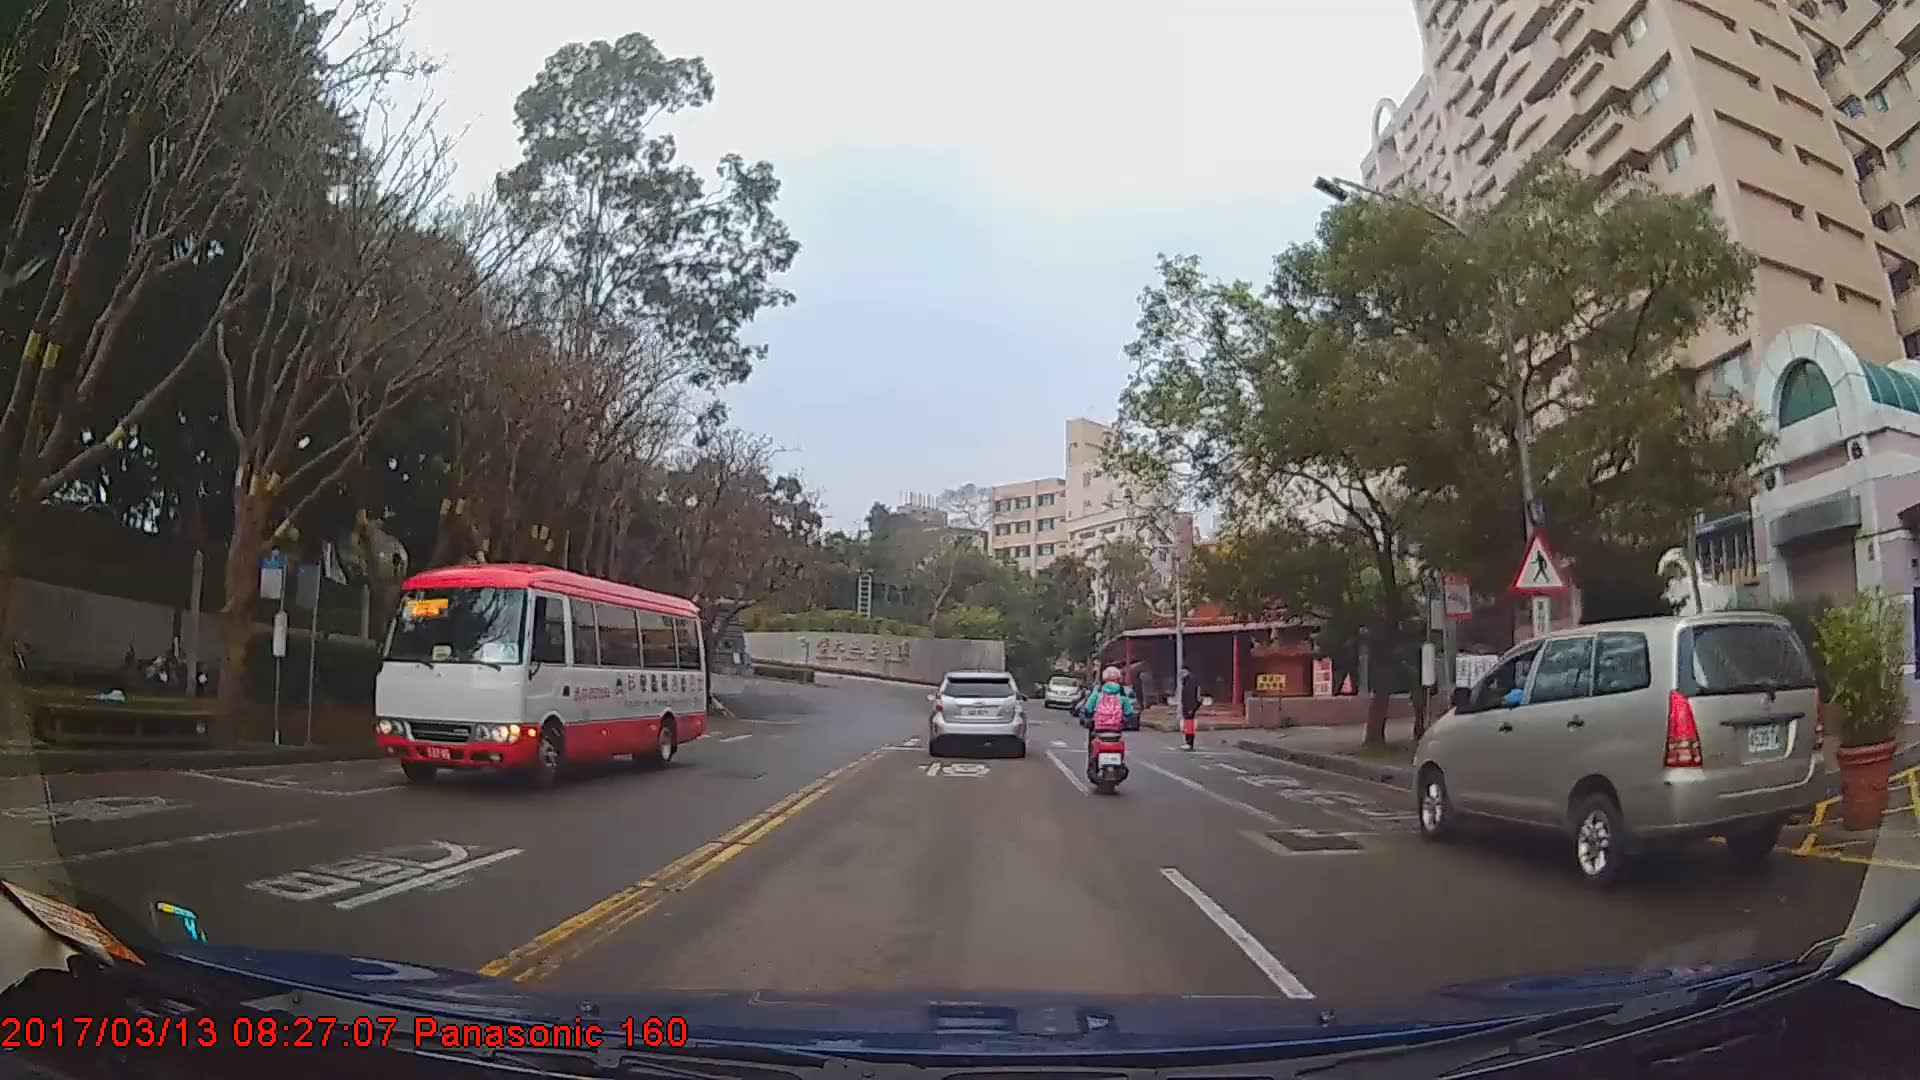pedestrian: (1175, 667, 1203, 754)
rider: (1077, 666, 1135, 797)
vehicle: (1411, 610, 1825, 891), (373, 562, 705, 793), (924, 670, 1027, 757), (1044, 674, 1082, 707)
